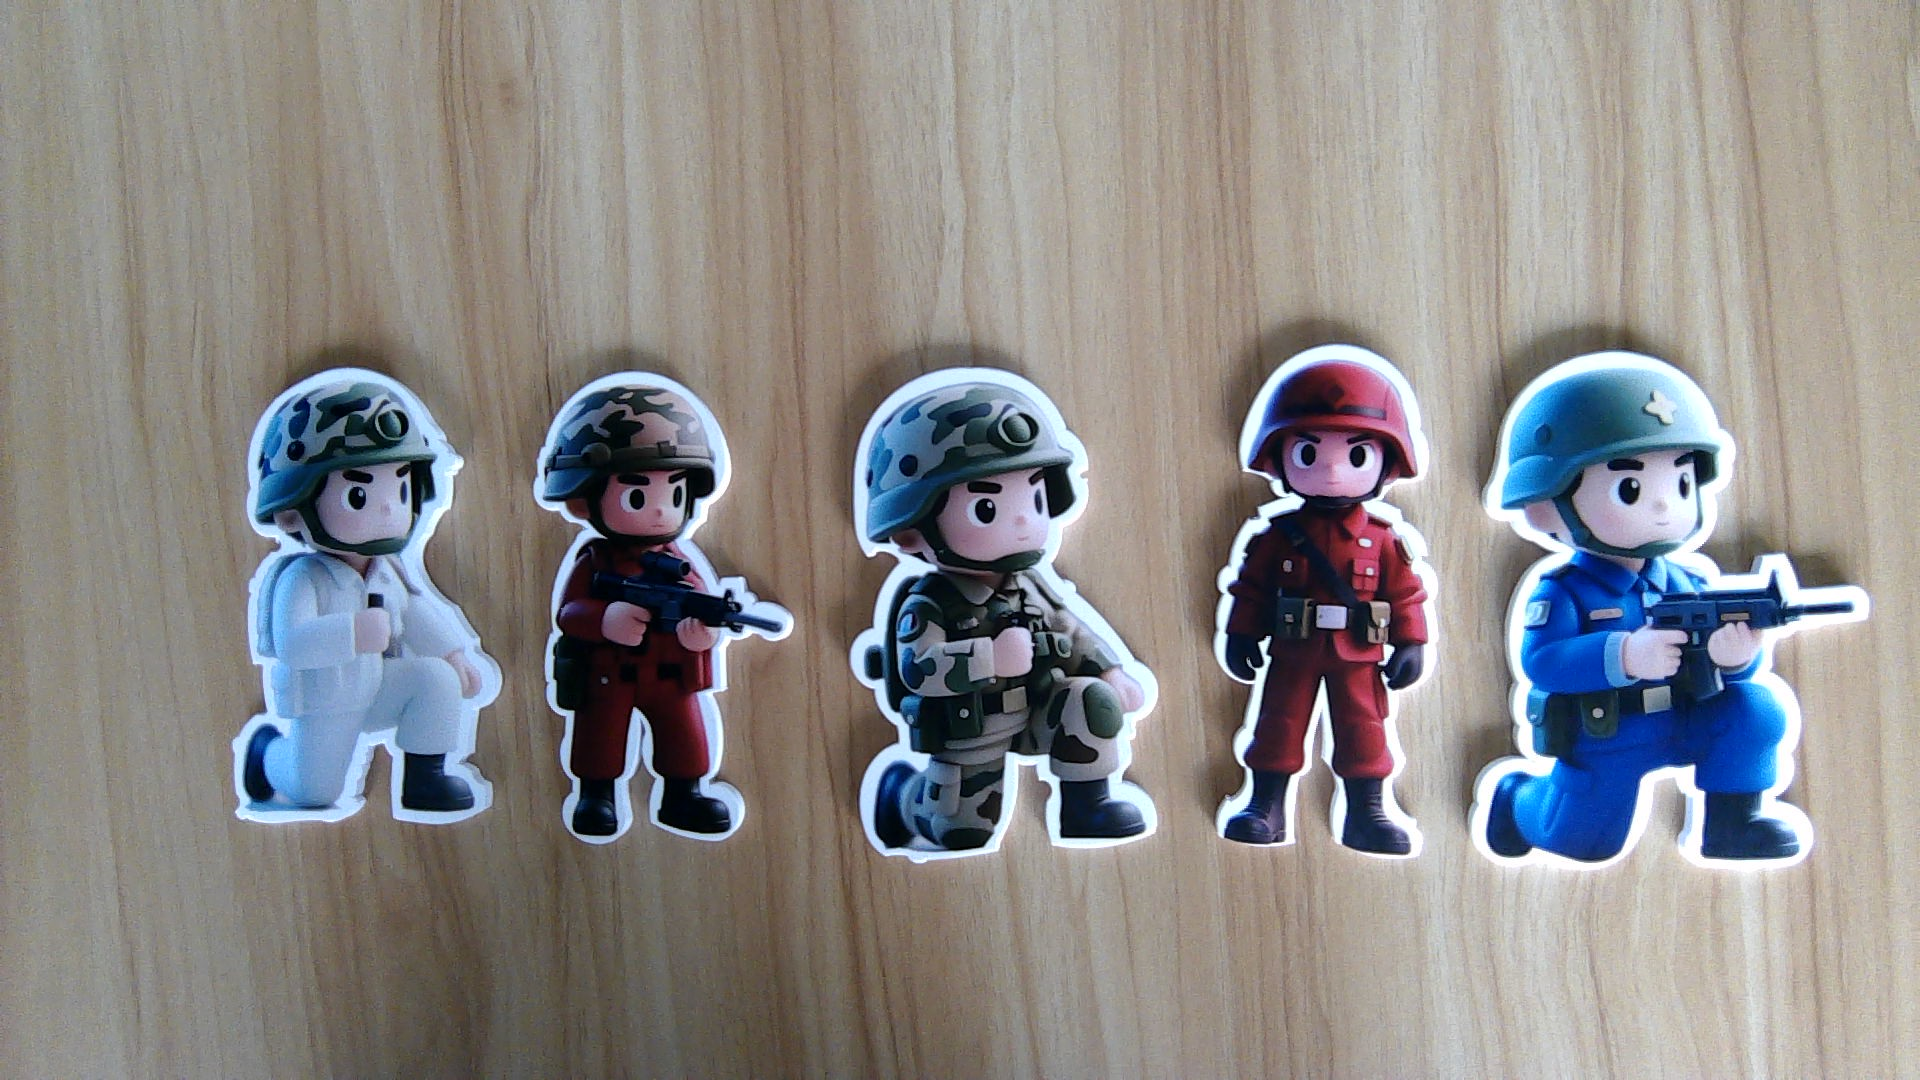人质: (224, 553, 506, 828)
友军: (848, 564, 1163, 864)
敌人1: (1205, 498, 1433, 861), (542, 541, 796, 843)
敌人2: (1472, 560, 1862, 882)
